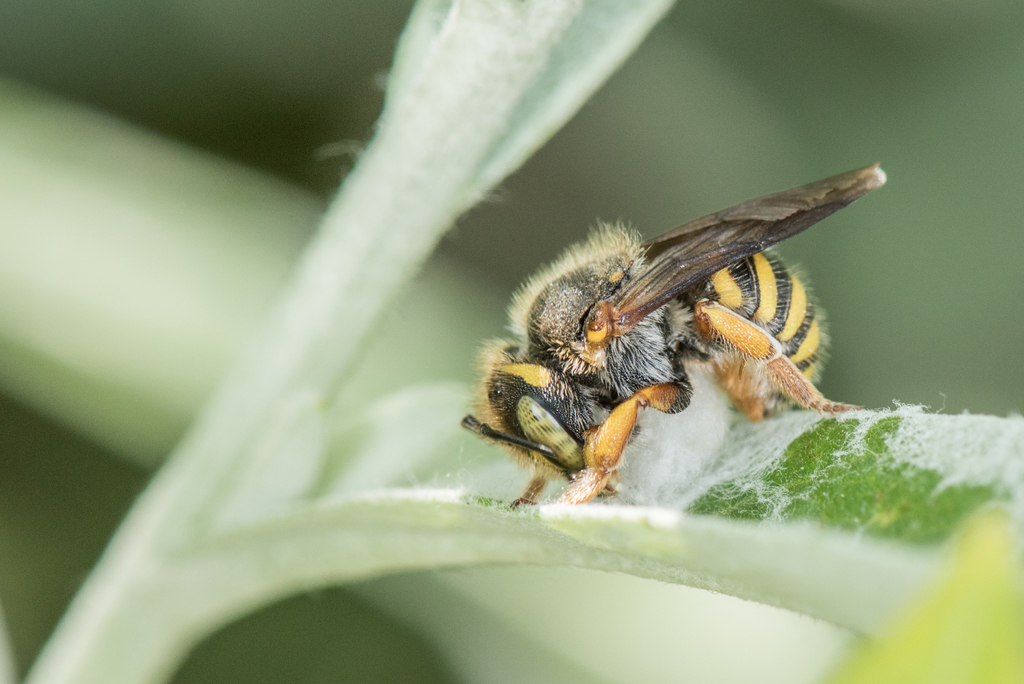not_bumblebee: (463, 161, 888, 513)
